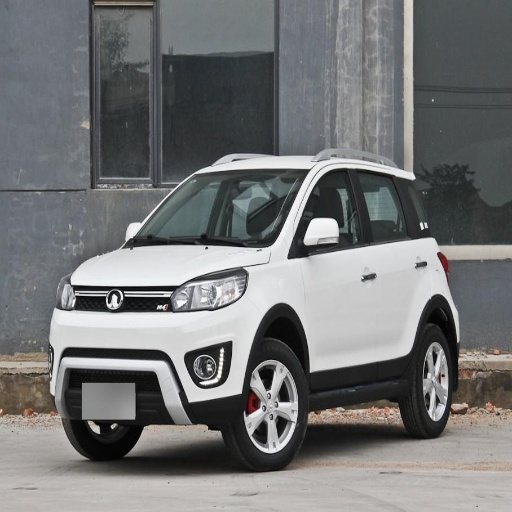back_left_door: (351, 166, 430, 377)
front_bumper: (53, 282, 262, 426)
front_glass: (128, 173, 307, 246)
front_left_door: (293, 165, 377, 390)
